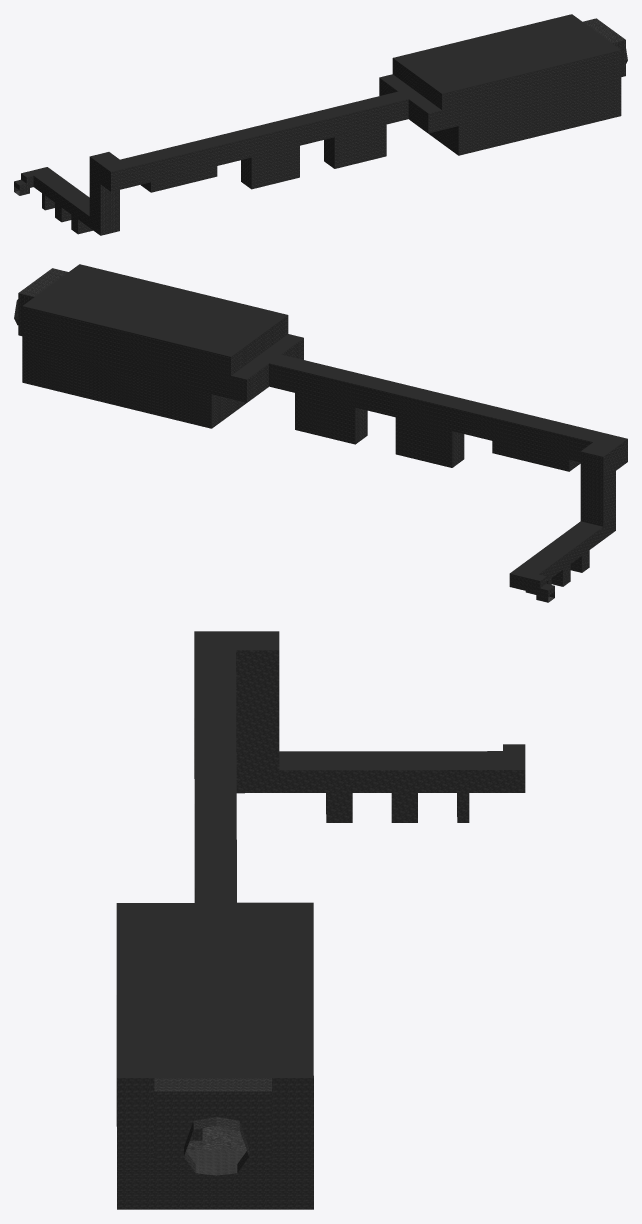
File: Mazmorra-p2.obj
3 views of the same model, one above another, from view 1: azimuth 30°, elevation 25°; view 2: azimuth 150°, elevation 25°; view 3: azimuth 270°, elevation 25° (orthographic). The views are drawn at different scales.
Parts seen in each view (by area): view 1: Cube.002; view 2: Cube.002; view 3: Cube.002.
Part boxes in pixels (x1,y1,x2,y2): Cube.002: (14, 14, 627, 235); Cube.002: (14, 264, 627, 602); Cube.002: (116, 631, 525, 1209).
Bounding box in the file's own units: 483 × 89.58 × 161.
